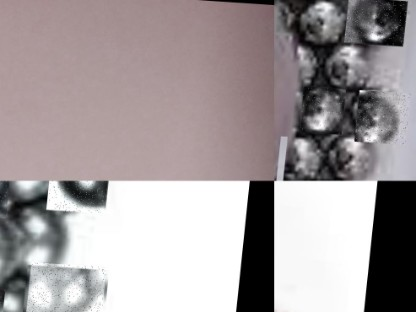ironball: (274, 0, 332, 180), (27, 259, 108, 311), (358, 86, 413, 140), (345, 0, 408, 42), (303, 83, 348, 130), (47, 180, 113, 210)
